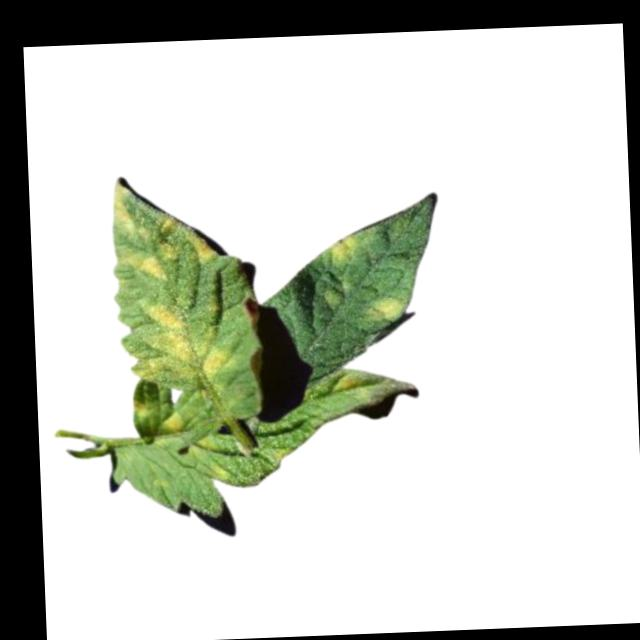Leaf_Mold: (131, 299, 233, 386), (109, 179, 181, 241), (115, 240, 179, 283), (331, 369, 374, 404), (327, 230, 361, 268), (366, 294, 407, 323), (188, 229, 217, 261), (159, 410, 188, 437), (131, 395, 147, 419)
